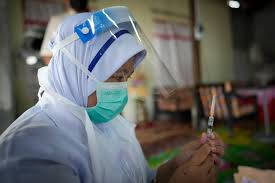Face_Shield: (54, 7, 181, 108)
with_mask: (87, 57, 137, 124)
